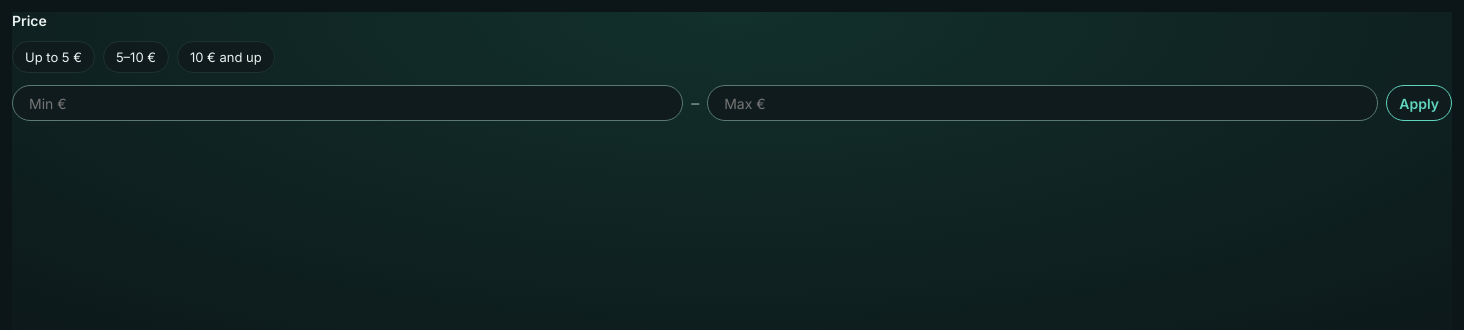
Test: PriceFilter › blocks negative prices
Type "-1" into the number field named "Maximum price" at (1043, 103), box [707,85,1378,121]
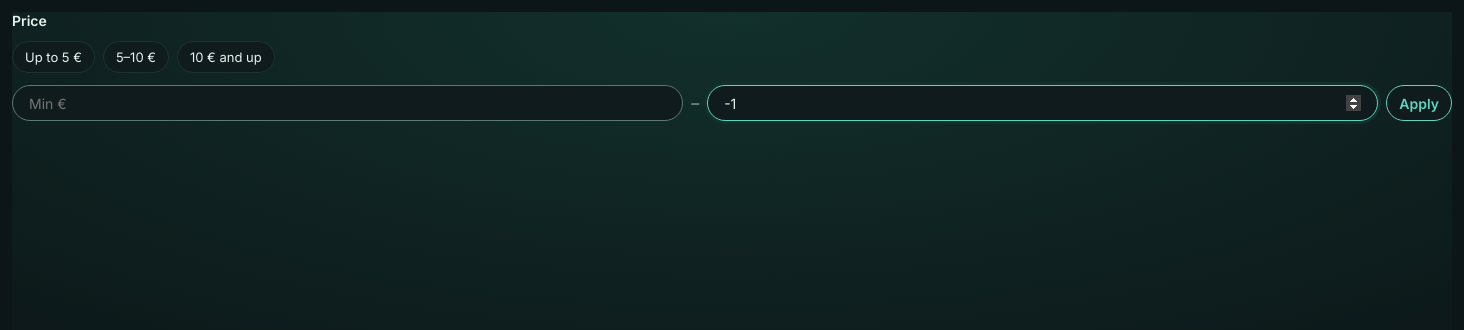
Click the button "Apply" at (1419, 103), box [1386,85,1452,121]
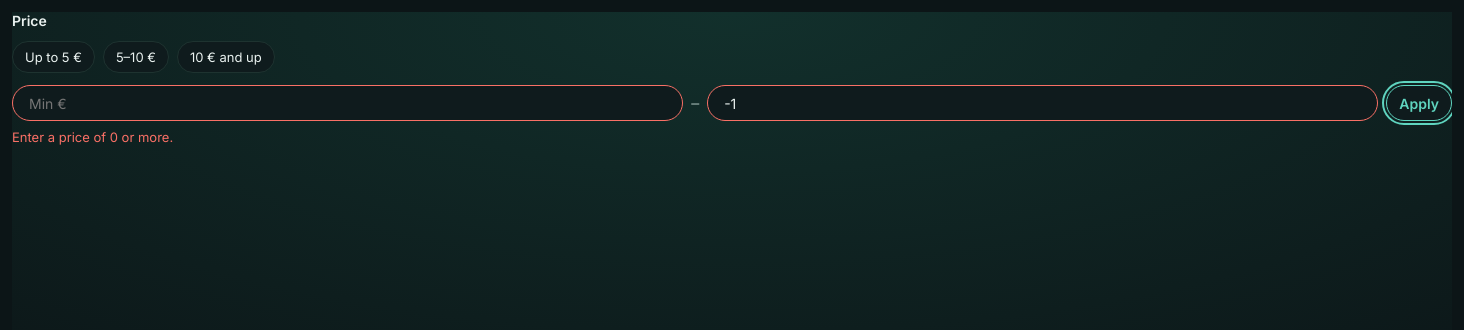
Now the message reads "Enter a price of 0 or more.", box [12,129,173,145]
